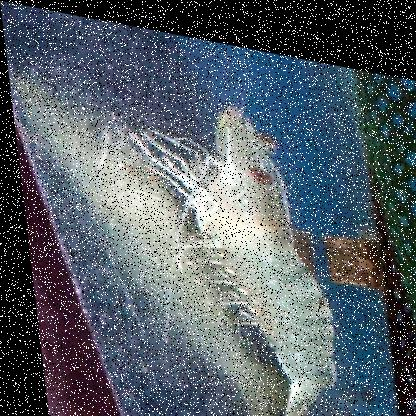shrimp: (124, 78, 343, 415)
